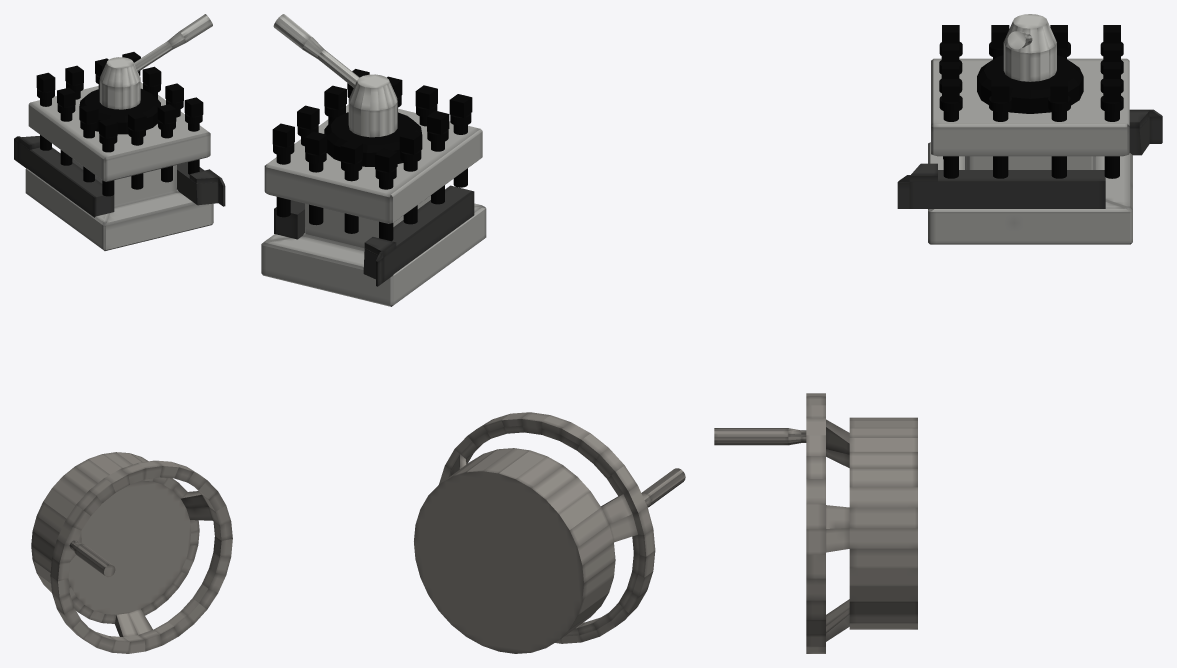
The model's file is center_13.fbx.
3 views of the same model, side by side, from view 1: azimuth 30°, elevation 25°; view 2: azimuth 150°, elevation 25°; view 3: azimuth 270°, elevation 25° (orthographic). The views are drawn at different scales.
Parts seen in each view (by area): view 1: 円.013, 円.010, 立方体.009, 円.040, 立方体.008, 円.025, 円.028, 円.029, 円.030, 円.031, 円.033, 円.034 (+4 smaller); view 2: 円.013, 円.010, 立方体.009, 円.040, 円.025, 円.035, 円.037, 円.036, 円.034, 円.028, 円.033, 円.032 (+4 smaller); view 3: 円.013, 円.010, 立方体.008, 円.040, 円.025, 立方体.009, 円.039, 円.031, 円.037, 円.038.
Part boxes in pixels (x1,y1,x2,y2): 円.013: (31,452,232,653); 円.010: (25,82,213,250); 立方体.009: (14,136,114,217); 円.040: (99,14,212,109); 立方体.008: (177,162,225,206); 円.025: (79,88,160,134); 円.028: (99,118,117,196); 円.029: (128,111,146,189); 円.030: (157,104,176,182); 円.031: (184,97,203,174); 円.033: (57,87,75,165); 円.034: (36,72,55,150); 円.013: (414,412,685,653); 円.010: (261,104,486,306); 立方体.009: (363,185,474,286); 円.040: (273,14,397,137); 円.025: (324,112,422,166); 円.035: (340,140,362,233); 円.037: (272,123,294,217); 円.036: (305,131,327,225); 円.034: (375,148,397,241); 円.028: (449,94,472,187); 円.033: (399,130,421,224); 円.032: (427,110,449,204); 円.013: (714,393,917,653); 円.010: (928,58,1132,244); 立方体.008: (897,163,1105,208); 円.040: (1003,14,1056,81); 円.025: (977,55,1083,113); 立方体.009: (1129,109,1162,155); 円.039: (989,79,1011,178); 円.031: (939,79,962,178); 円.037: (1100,79,1123,178); 円.038: (1048,79,1070,178).
Size of the model in its own units: 174 by 383 by 222.
